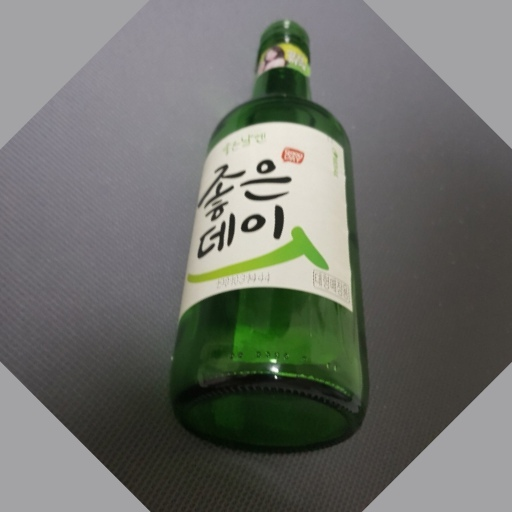Glass_0: (162, 15, 375, 454)
